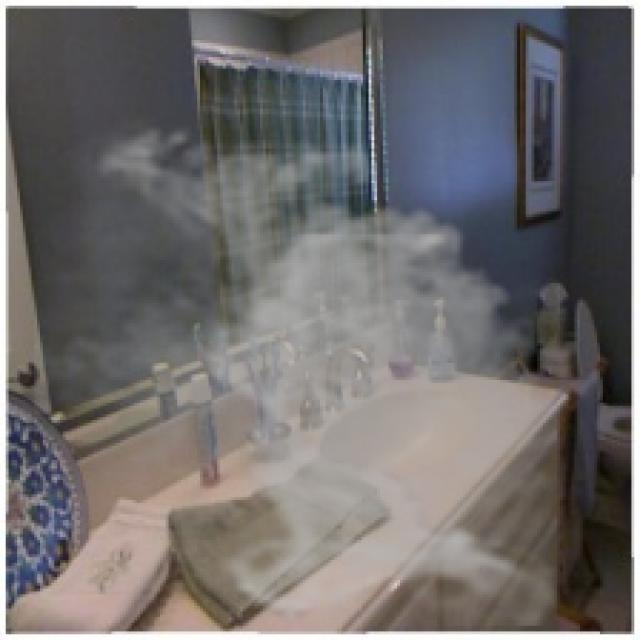Smoke: (34, 111, 586, 626)
